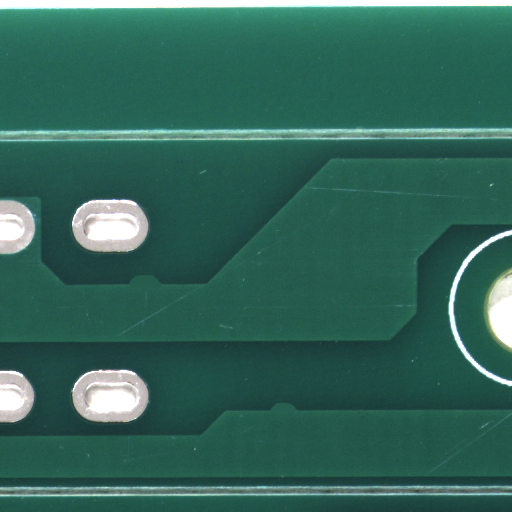Spur: (143, 280, 177, 294), (283, 407, 313, 418)
